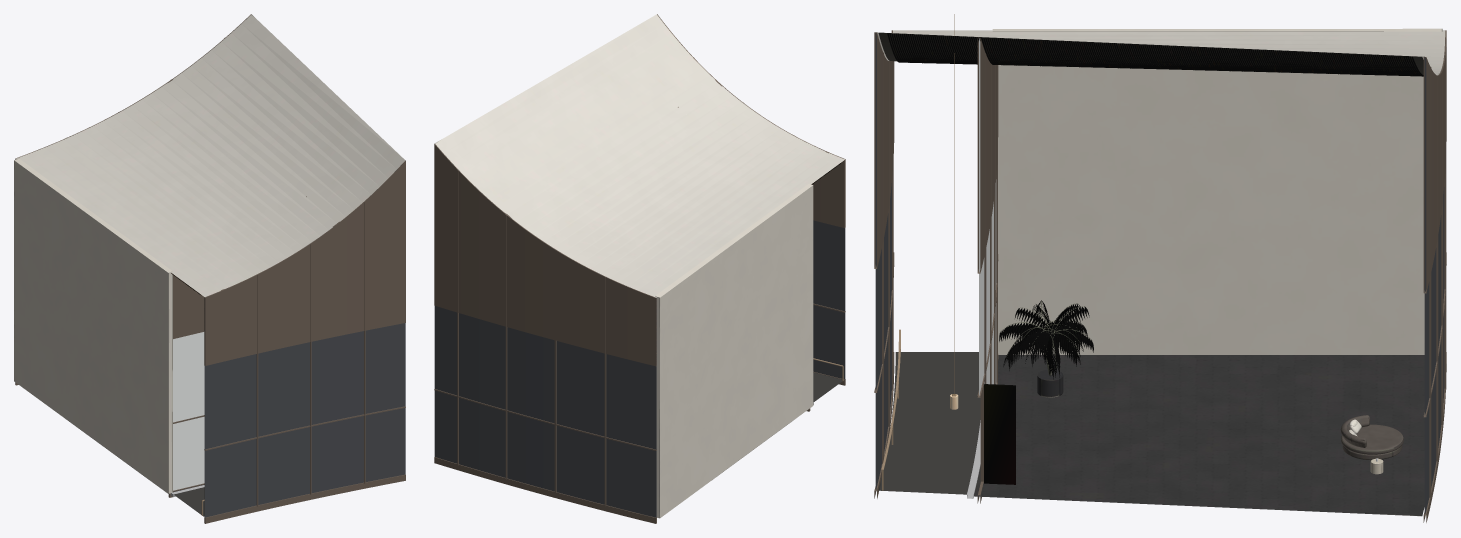
3 renders of one model, left to right at view 1: azimuth 30°, elevation 25°; view 2: azimuth 150°, elevation 25°; view 3: azimuth 270°, elevation 25°, orthographic. The views are drawn at different scales.
Visible parts, largest first — view 1: c0000; view 2: c0000; view 3: c0000, c0000 leaves.
Part boxes in pixels (<box>): c0000: <box>14,14,405,523</box>; c0000: <box>434,14,845,523</box>; c0000: <box>874,14,1446,522</box>; c0000 leaves: <box>887,33,1423,484</box>.
Bounding box in the file's own units: 14.28 × 18.85 × 20.93.
Materials: 10 (2 with a texture image).
